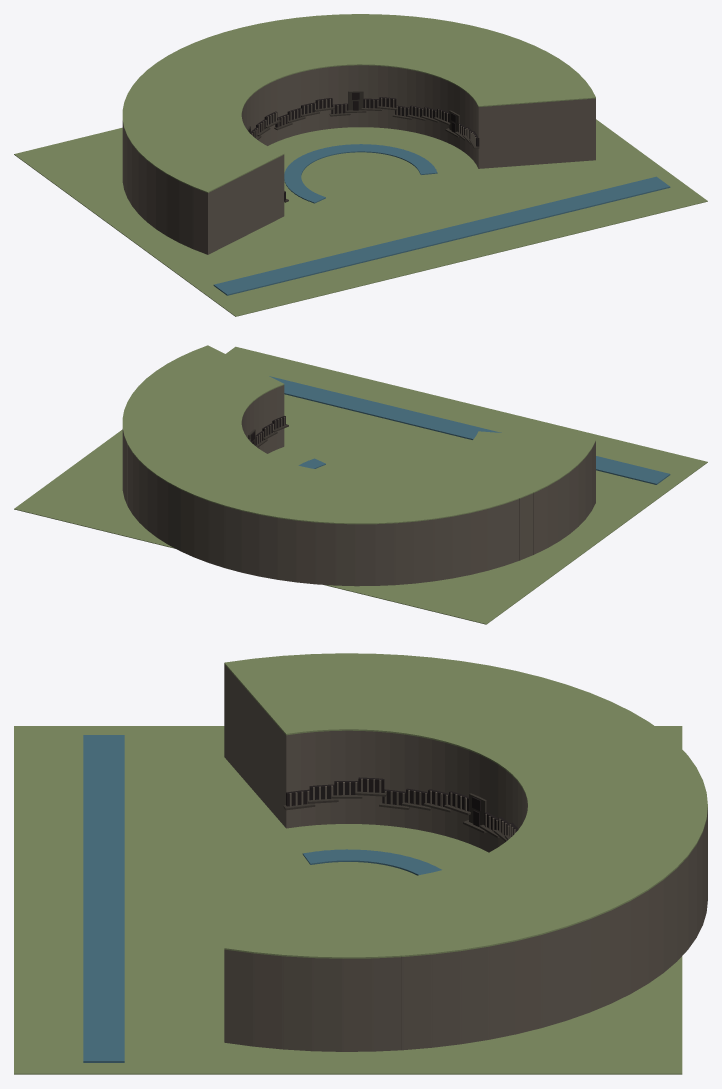
File: ajanta-caves.glb
3 renders of one model, top to bottom at view 1: azimuth 30°, elevation 25°; view 2: azimuth 150°, elevation 25°; view 3: azimuth 270°, elevation 25°, orthographic. The views are drawn at different scales.
Visible parts, largest first — view 1: grass, basalt, water, void, basalt_d; view 2: grass, basalt, water; view 3: grass, basalt, water, void, basalt_d.
Part boxes in pixels (x1,y1,x2,y2): grass: (14, 14, 707, 316); basalt: (122, 65, 595, 254); water: (213, 144, 670, 295); void: (248, 92, 479, 200); basalt_d: (247, 91, 479, 202); grass: (14, 345, 707, 624); basalt: (122, 385, 595, 586); water: (269, 376, 670, 484); grass: (14, 653, 707, 1074); basalt: (224, 664, 707, 1051); water: (83, 735, 441, 1062); void: (286, 777, 518, 836); basalt_d: (283, 791, 509, 841).
Size of the model in its own units: 320 by 41 by 270.
